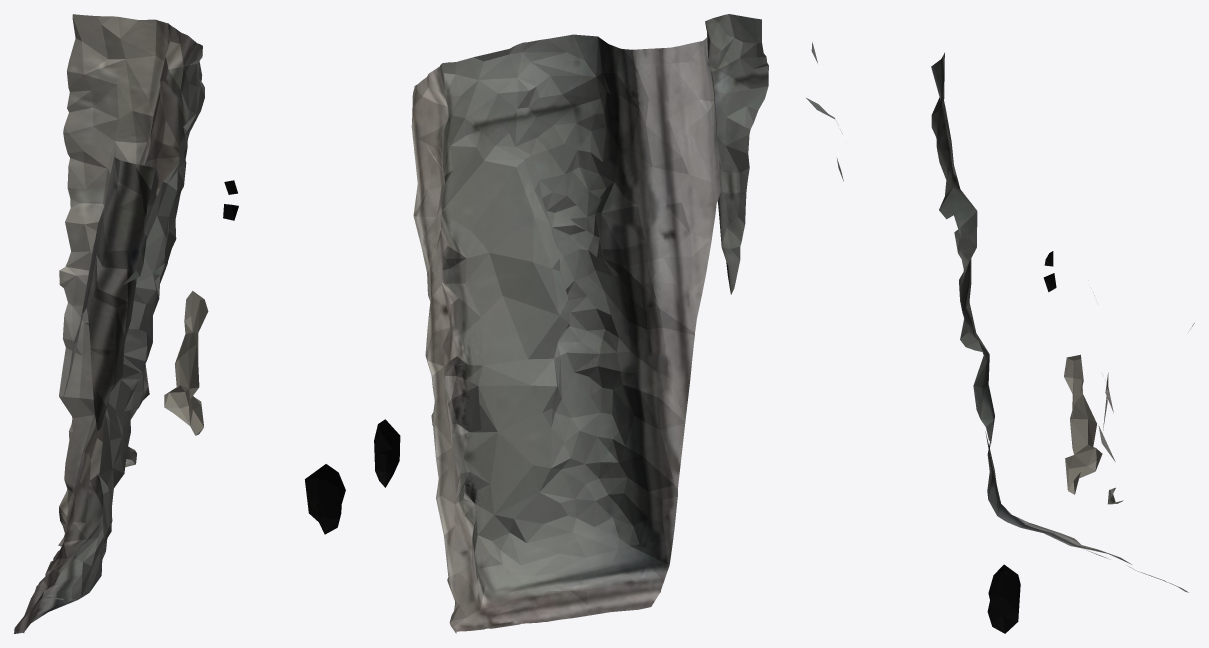
The picture shows the model from 3 angles, left to right: view 1: azimuth 30°, elevation 25°; view 2: azimuth 150°, elevation 25°; view 3: azimuth 270°, elevation 25°; orthographic projection. The views are drawn at different scales.
Bounding box in the file's own units: 0.5098 × 0.8374 × 0.5818.
Materials: 2 (2 with a texture image).
